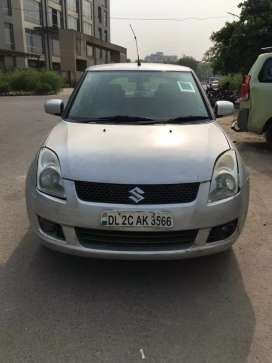license_plate: (102, 212, 173, 227)
